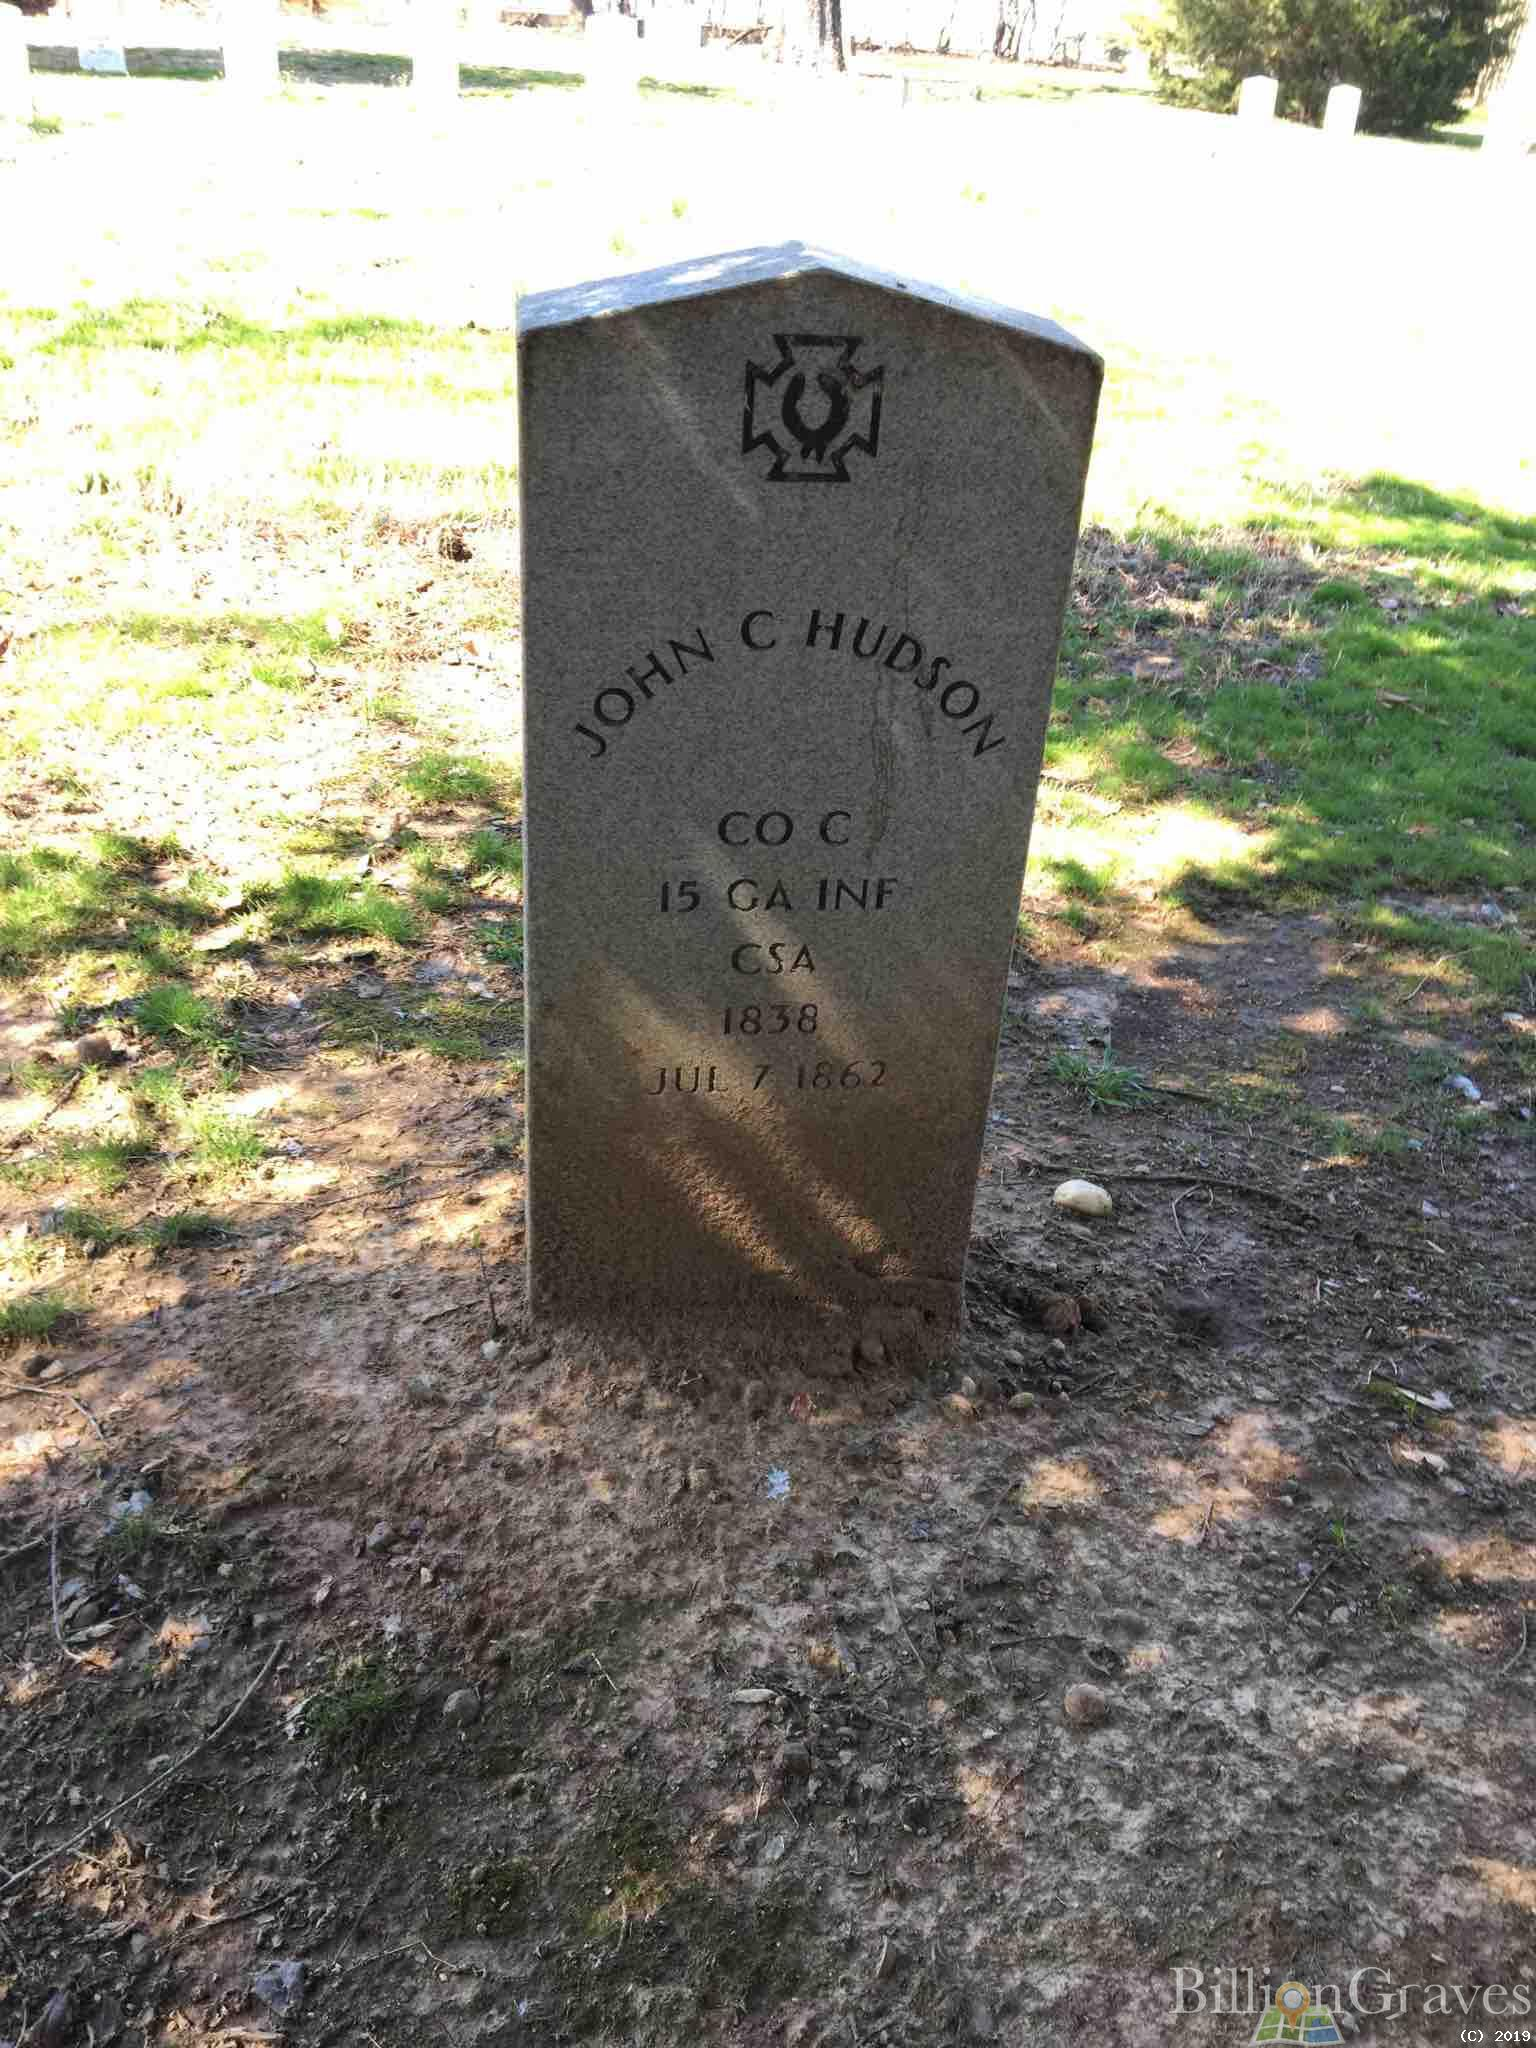military: (516, 232, 1102, 1348)
